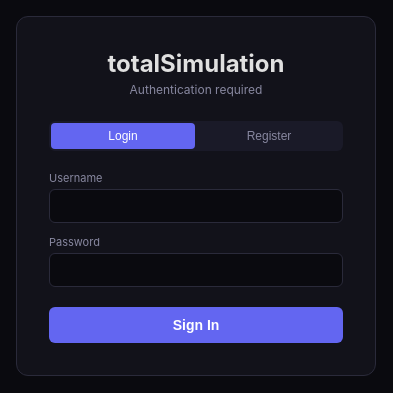
Test case: LoginPage › switches between login and register modes
Step 1. Click the button "register" → (269, 136), box x1=197 y1=123 x2=341 y2=149
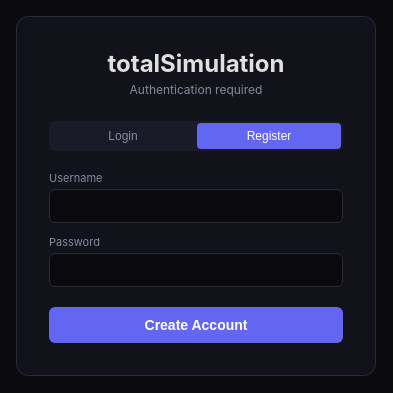
Check: the button "Create Account" is shown, box x1=49 y1=307 x2=343 y2=343
